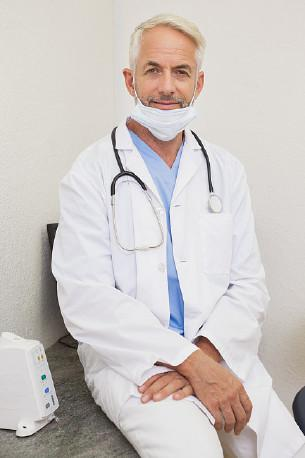WRONG: (128, 55, 203, 130)
